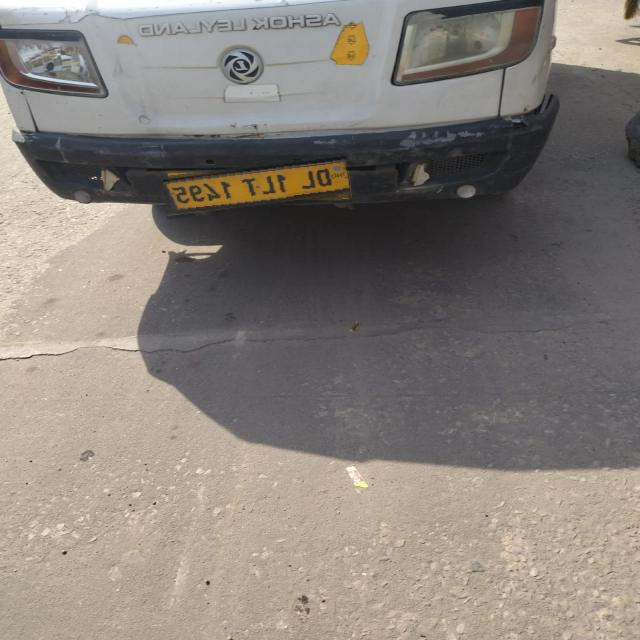License-plate: (163, 159, 350, 215)
